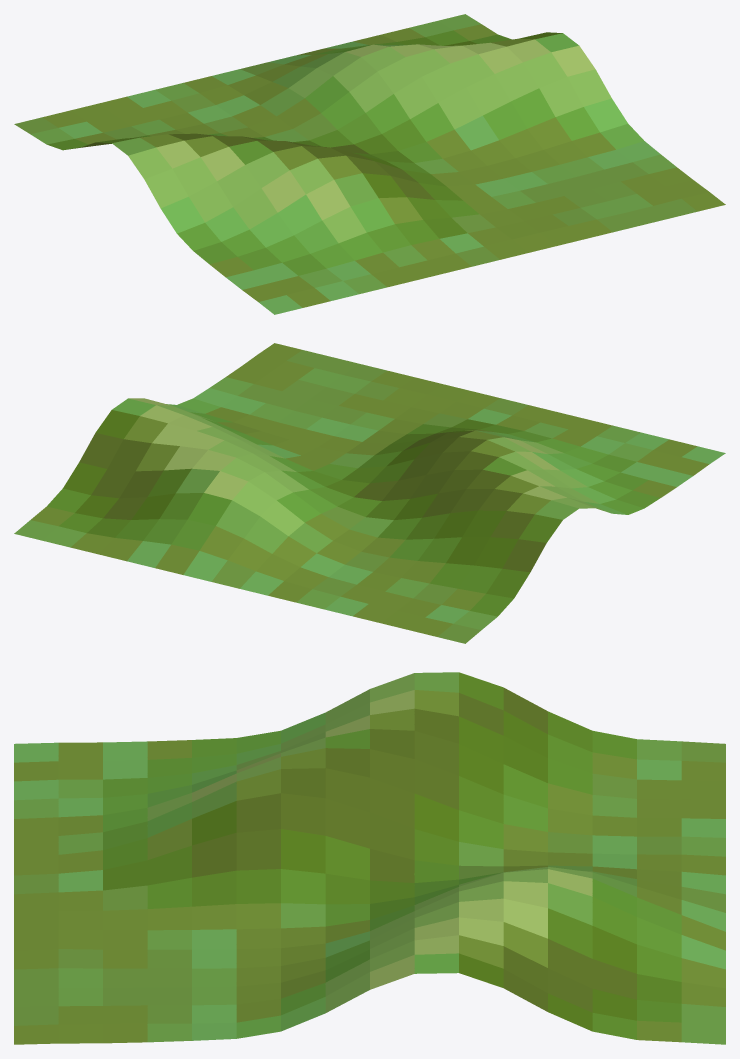
The model's file is hills10.obj.
3 views of the same model, one above another, from view 1: azimuth 30°, elevation 25°; view 2: azimuth 150°, elevation 25°; view 3: azimuth 270°, elevation 25° (orthographic). The views are drawn at different scales.
Parts seen in each view (by area): view 1: hills10; view 2: hills10; view 3: hills10.
Boxes of the visible parts, x1=… form: hills10: x1=14, y1=14, x2=725, y2=314; hills10: x1=14, y1=343, x2=725, y2=643; hills10: x1=14, y1=672, x2=725, y2=1044.
Bounding box in the file's own units: 1 × 0.1128 × 1.
Materials: 1 (1 with a texture image).
